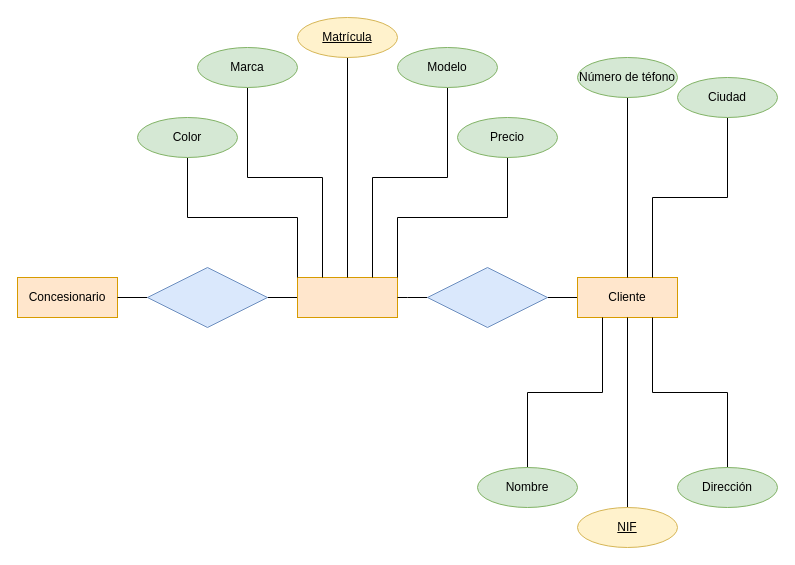
The diagram is 795 pixels wide and 565 high, and some of its shapes have lost their labels. The shapes that lost their labels are listed below. From the top down, each one's centre as x and y in pixels, then its label:
[207,297]: revisa
[347,297]: Coche
[487,297]: comprado
